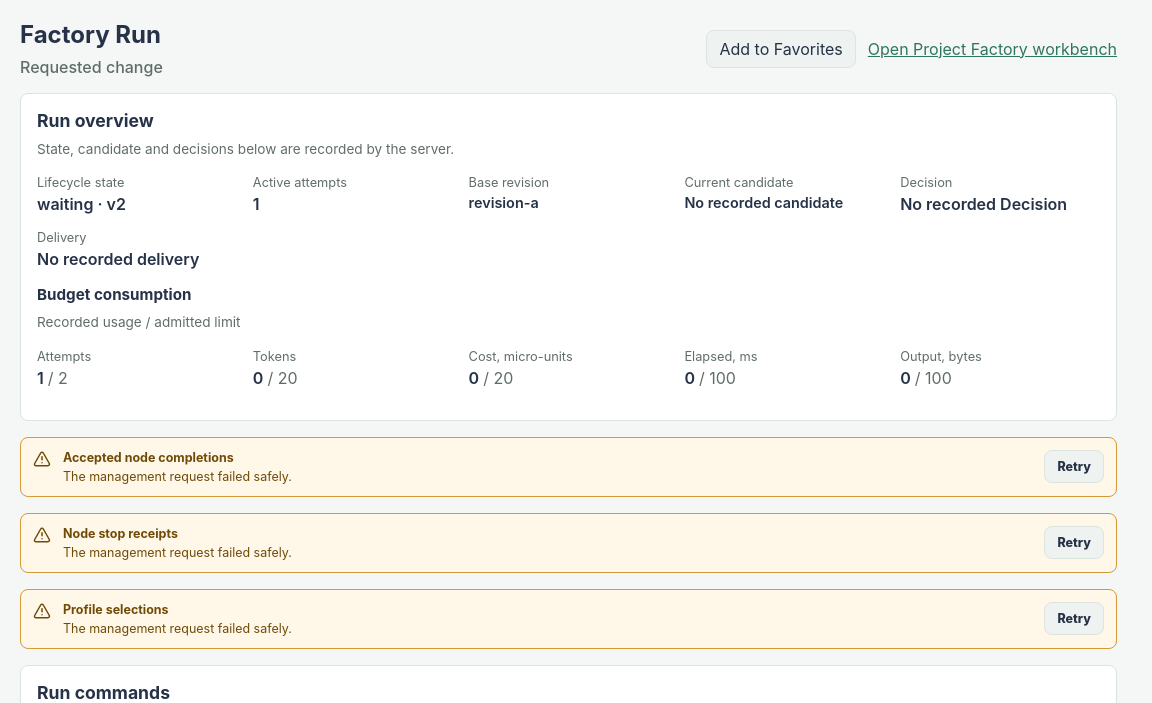
Scenario: favorites an exact Run identity without persisting its task or displayed diagnostics
This screenshot has width=1152, height=703.
What coordinates should you click on to do the following:
click the button "Add to Favorites"
I would click on:
 (781, 48)
Its box is [706,30,856,68].
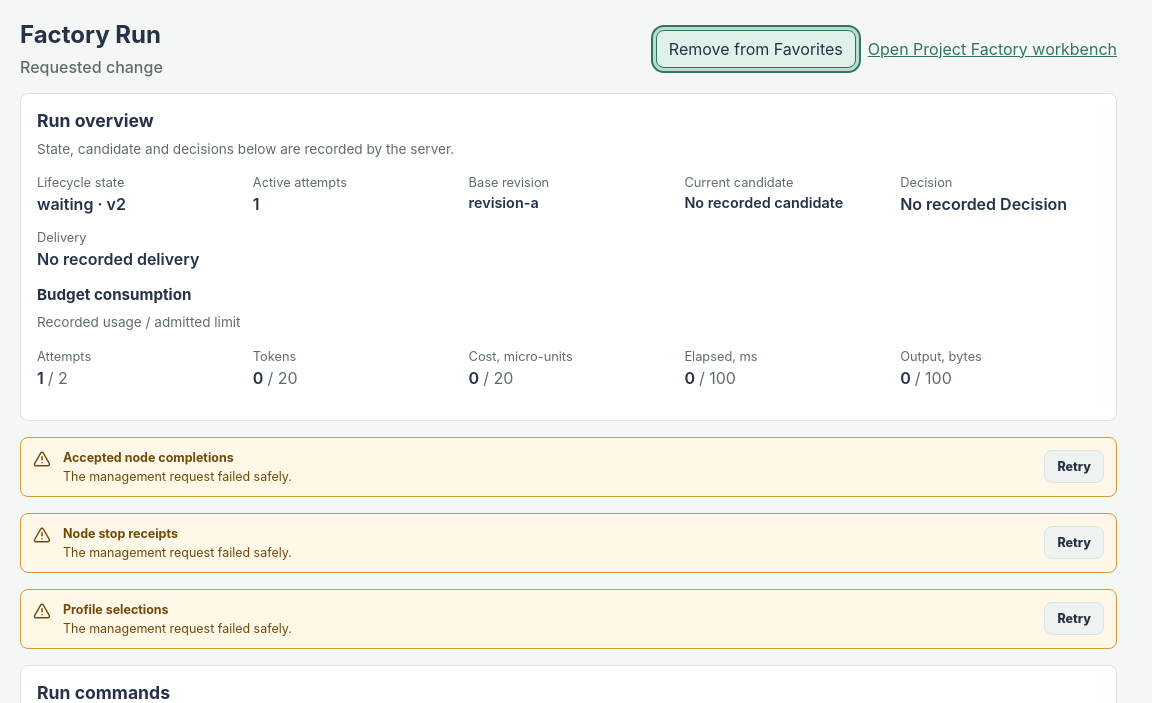
Check: the button "Remove from Favorites" is shown, box [656,30,856,68]
